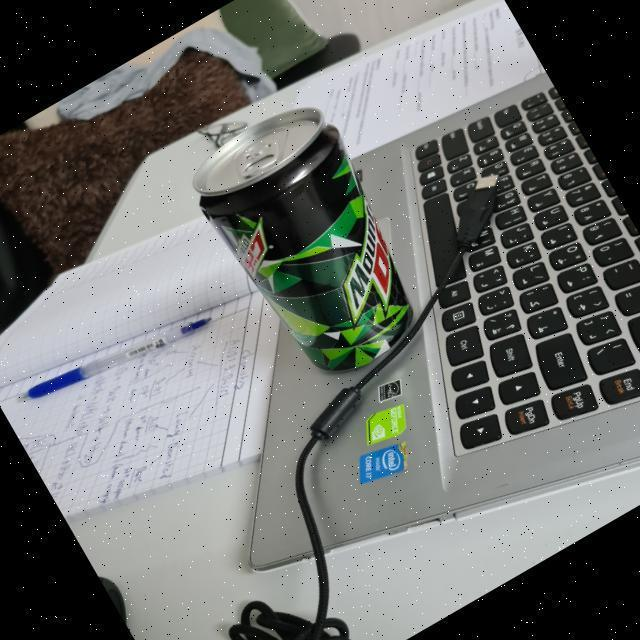can: (157, 80, 457, 412)
